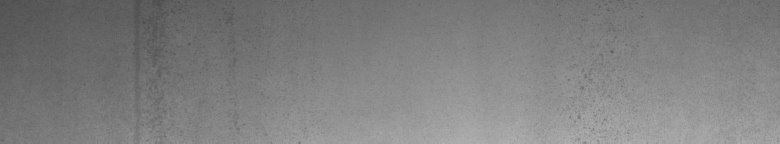ib: (569, 50, 614, 124)
